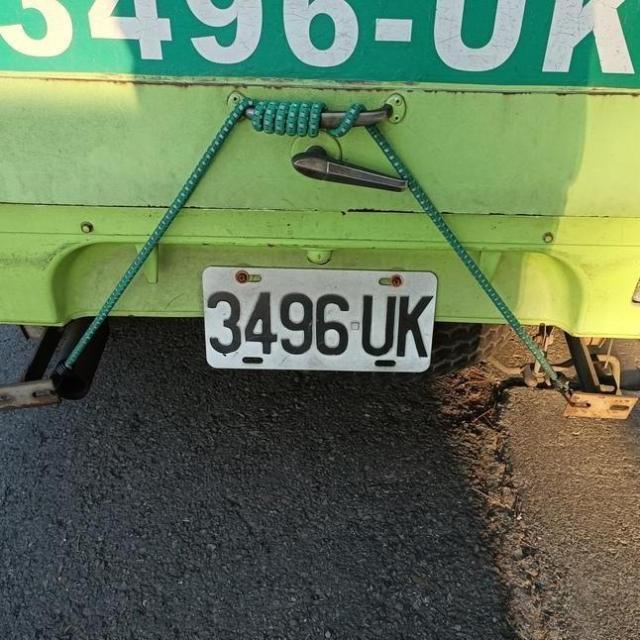W: (193, 252, 442, 384)
